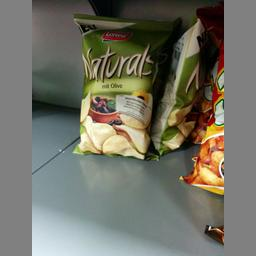chips: (74, 16, 158, 160)
